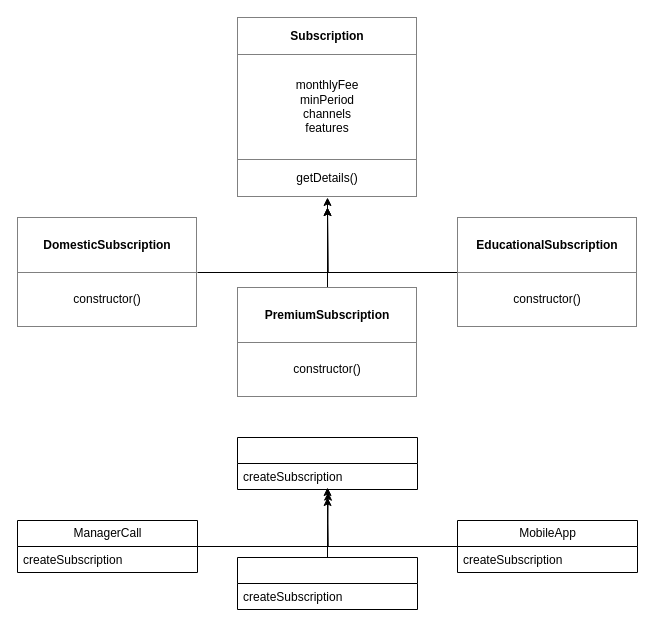
The diagram is 655 pixels wide and 629 high, and some of its shapes have lost their labels. The box of each missing label's shape, as (x1, y1, x2, y2) in pixels:
SubscriptionFactory: (236, 436, 418, 490)
WebSite: (236, 556, 418, 610)
